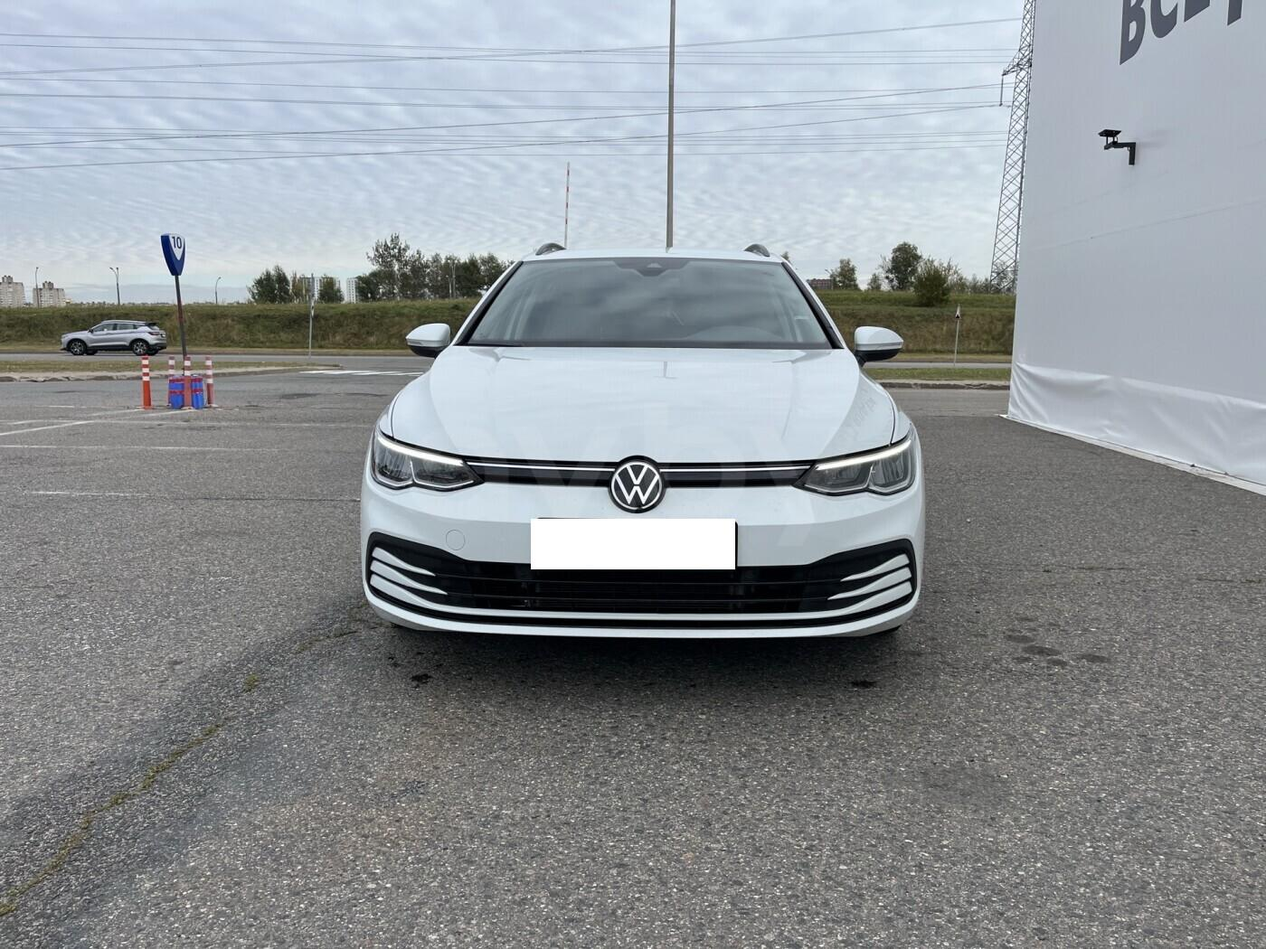Golf_2019: (350, 245, 940, 656)
